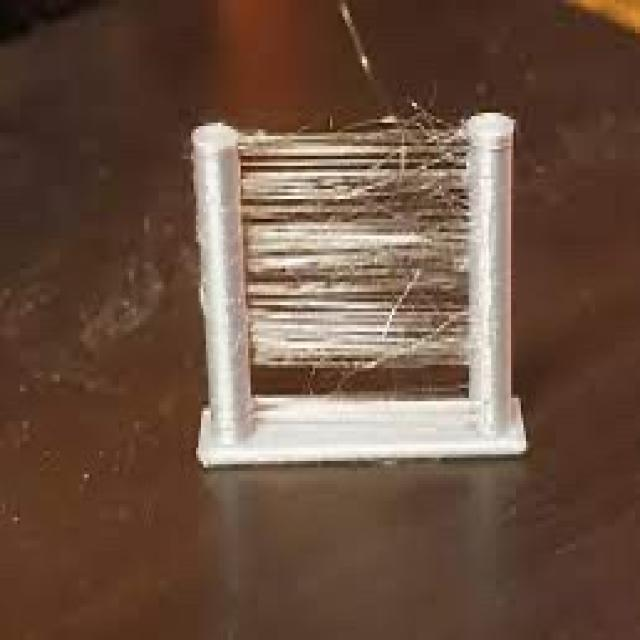stringing: (242, 128, 460, 380)
